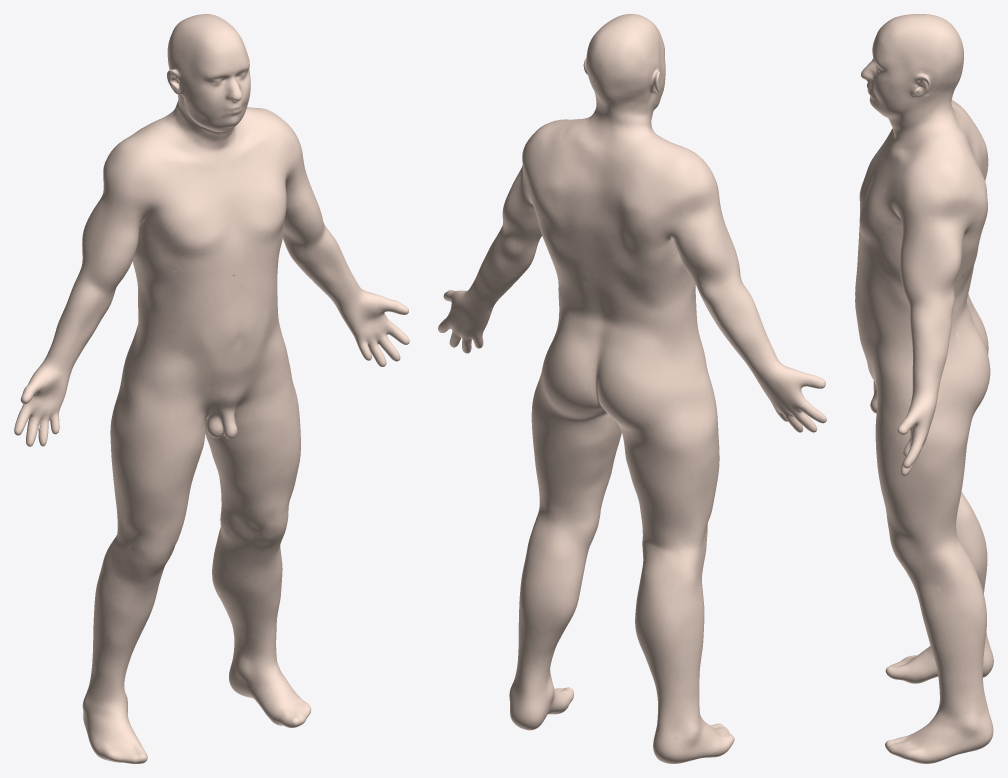
File: tumor_web_0.10.glb
The picture shows the model from 3 angles, left to right: view 1: azimuth 30°, elevation 25°; view 2: azimuth 150°, elevation 25°; view 3: azimuth 270°, elevation 25°; orthographic projection. The views are drawn at different scales.
Parts seen in each view (by area): view 1: VH_M_skin; view 2: VH_M_skin; view 3: VH_M_skin.
Boxes of the visible parts, x1,y1,x2,y2 form: VH_M_skin: (14, 14, 409, 763); VH_M_skin: (438, 14, 826, 763); VH_M_skin: (855, 14, 993, 763).
Size of the model in its own units: 1.04 by 1.82 by 0.3256.
